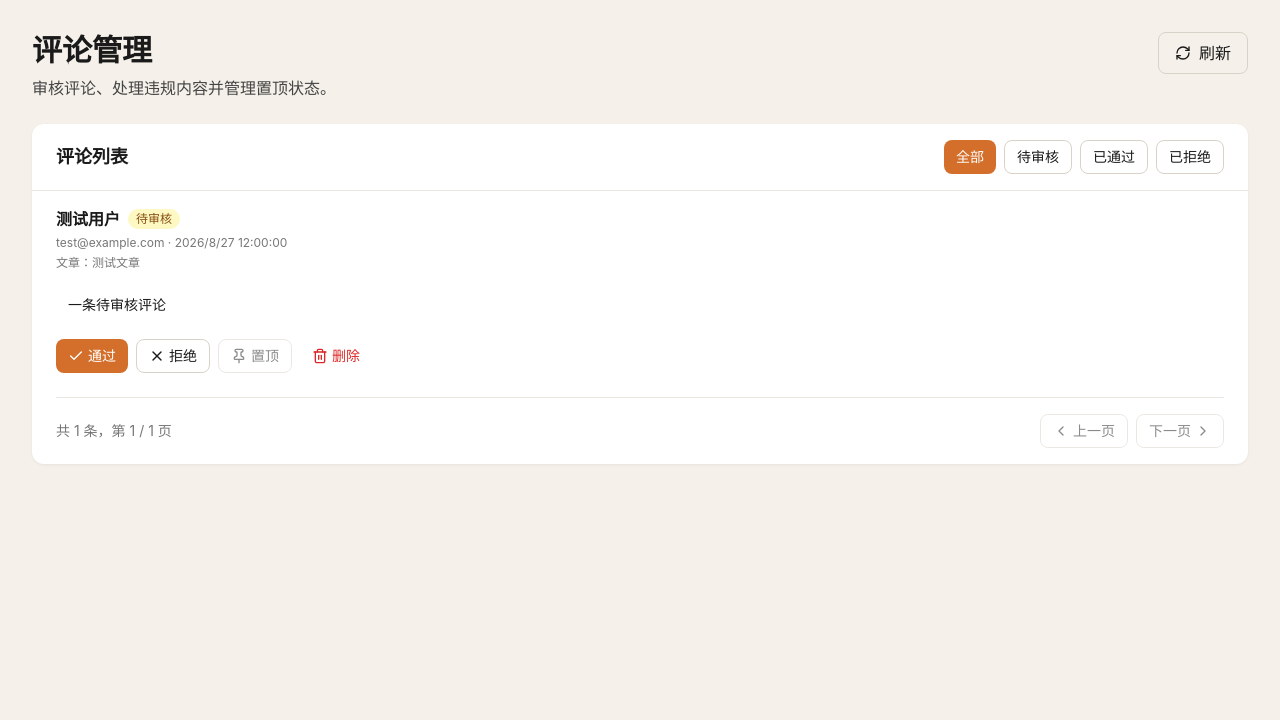
AdminCommentsManager › 通过评论时发送 PATCH 并刷新列表
This screenshot has width=1280, height=720.
Click the button "通过" at coordinates (92, 356), box [56,339,128,373]
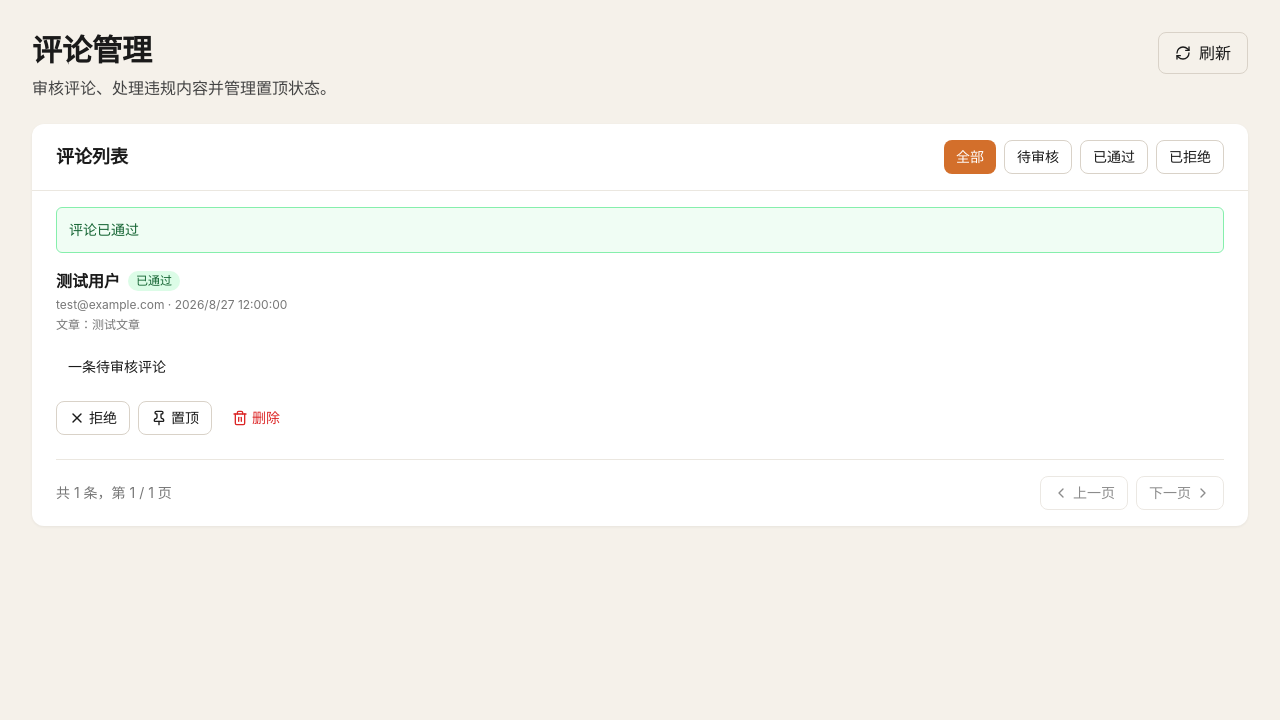
Result: the text "评论已通过" is shown at [56,207,1224,253]
